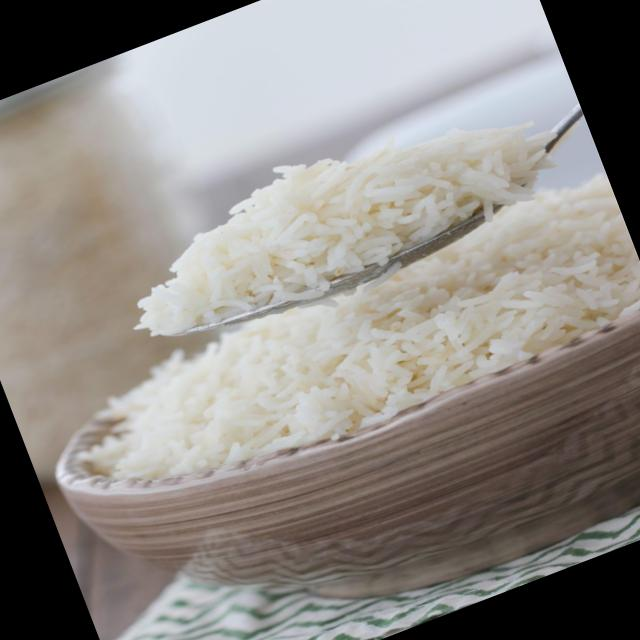rice: (89, 168, 640, 487), (133, 116, 554, 335)
